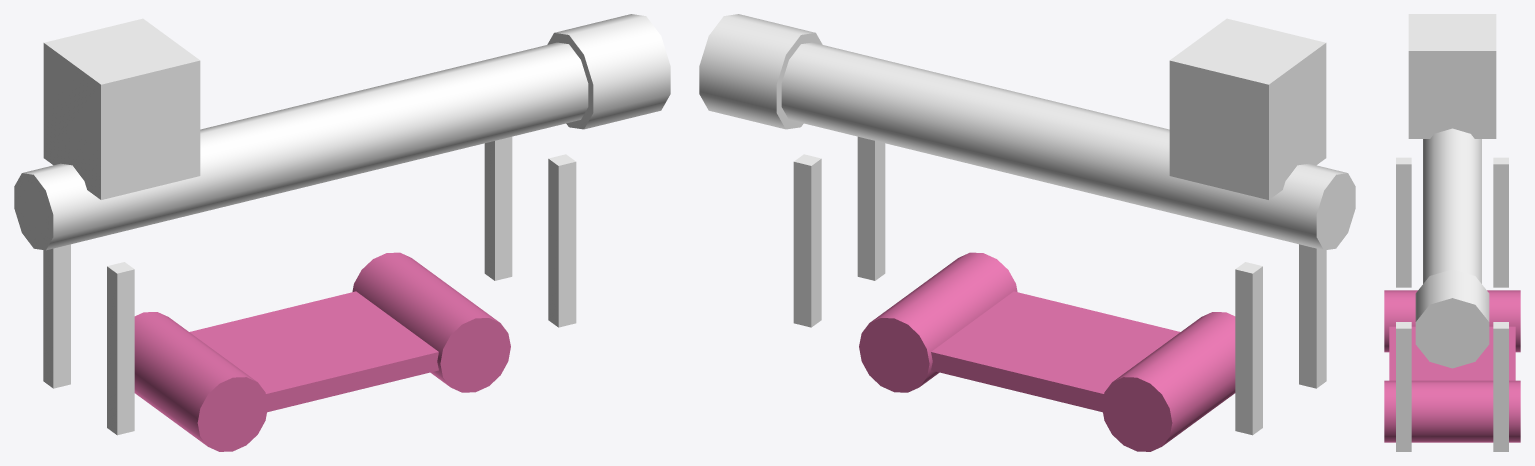
3 renders of one model, left to right at view 1: azimuth 30°, elevation 25°; view 2: azimuth 150°, elevation 25°; view 3: azimuth 270°, elevation 25°, orthographic. The views are drawn at different scales.
Visible parts, largest first — view 1: part005, part006, visualRoller (×2), visualBelt, part007, part004, part002, part003, part001; view 2: part005, part006, visualRoller (×2), visualBelt, part007, part003, part001, part004, part002; view 3: part006, visualRoller (×2), part005, part007, visualBelt, part001, part002, part003, part004.
Part boxes in pixels (box(x1,y1,x2,y2)): part005: box(14, 42, 588, 250); part006: box(43, 18, 200, 199); visualRoller (×2): box(134, 252, 510, 451); visualBelt: box(189, 291, 438, 412); part007: box(547, 14, 670, 129); part004: box(548, 154, 576, 327); part002: box(107, 262, 134, 435); part003: box(484, 136, 512, 280); part001: box(43, 244, 70, 388); part005: box(781, 42, 1355, 250); part006: box(1169, 18, 1326, 199); visualRoller (×2): box(859, 252, 1235, 451); visualBelt: box(931, 291, 1180, 412); part007: box(699, 14, 822, 129); part003: box(793, 154, 821, 327); part001: box(1235, 262, 1262, 435); part004: box(857, 136, 885, 280); part002: box(1299, 244, 1326, 388); part006: box(1408, 14, 1496, 138); visualRoller (×2): box(1384, 290, 1520, 442); part005: box(1423, 128, 1481, 283); part007: box(1415, 269, 1489, 368); visualBelt: box(1389, 326, 1515, 380); part001: box(1493, 157, 1508, 287); part002: box(1396, 157, 1411, 287); part003: box(1493, 322, 1508, 451); part004: box(1396, 322, 1411, 451).
Size of the model in its own units: 2.78 by 1.66 by 0.7.
